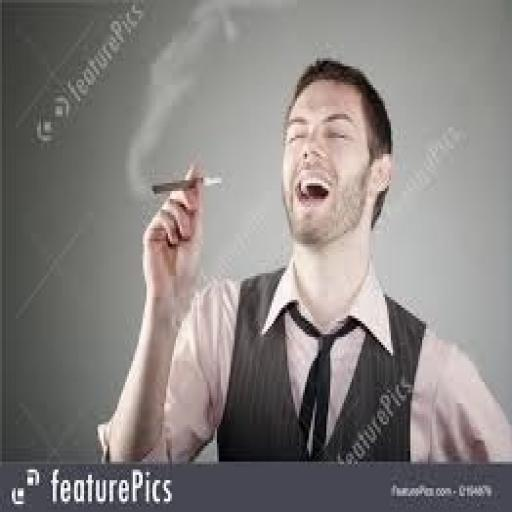laughing: (92, 45, 510, 462)
